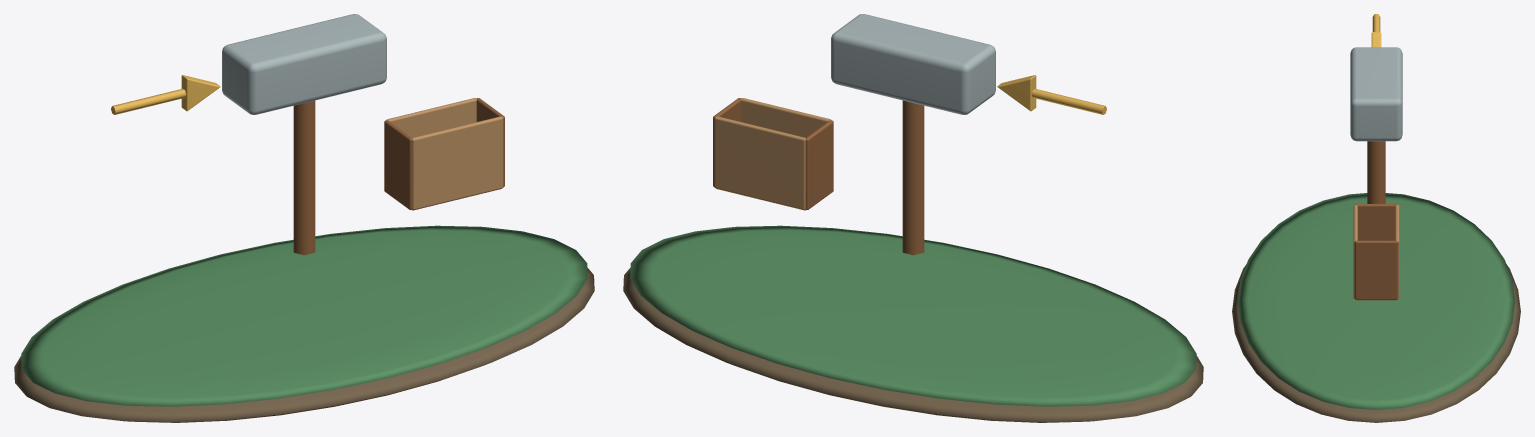
Rendered from complete-second-means-tool.glb.
The picture shows the model from 3 angles, left to right: view 1: azimuth 30°, elevation 25°; view 2: azimuth 150°, elevation 25°; view 3: azimuth 270°, elevation 25°; orthographic projection. The views are drawn at different scales.
Visible parts, largest first — view 1: complete-second-means-tool_surface_01, complete-second-means-tool_surface_03, complete-second-means-tool_surface_00, complete-second-means-tool_surface_05, complete-second-means-tool_surface_02, complete-second-means-tool_surface_04; view 2: complete-second-means-tool_surface_01, complete-second-means-tool_surface_03, complete-second-means-tool_surface_00, complete-second-means-tool_surface_05, complete-second-means-tool_surface_02, complete-second-means-tool_surface_04; view 3: complete-second-means-tool_surface_01, complete-second-means-tool_surface_02, complete-second-means-tool_surface_00, complete-second-means-tool_surface_03, complete-second-means-tool_surface_05, complete-second-means-tool_surface_04.
Part boxes in pixels (x1,y1,x2,y2): complete-second-means-tool_surface_01: (21,225,587,406); complete-second-means-tool_surface_03: (222,14,386,114); complete-second-means-tool_surface_00: (14,267,594,422); complete-second-means-tool_surface_05: (386,98,503,209); complete-second-means-tool_surface_02: (293,98,504,255); complete-second-means-tool_surface_04: (111,75,220,114); complete-second-means-tool_surface_01: (630,225,1196,406); complete-second-means-tool_surface_03: (831,14,995,114); complete-second-means-tool_surface_00: (623,267,1203,422); complete-second-means-tool_surface_05: (714,98,831,209); complete-second-means-tool_surface_02: (713,98,924,255); complete-second-means-tool_surface_04: (997,75,1106,114); complete-second-means-tool_surface_01: (1238,193,1514,409); complete-second-means-tool_surface_02: (1354,141,1398,300); complete-second-means-tool_surface_00: (1232,264,1520,422); complete-second-means-tool_surface_03: (1350,47,1402,141); complete-second-means-tool_surface_05: (1353,205,1399,298); complete-second-means-tool_surface_04: (1371,14,1381,47).
Bounding box in the file's own units: 4.56 × 2.41 × 2.5.
